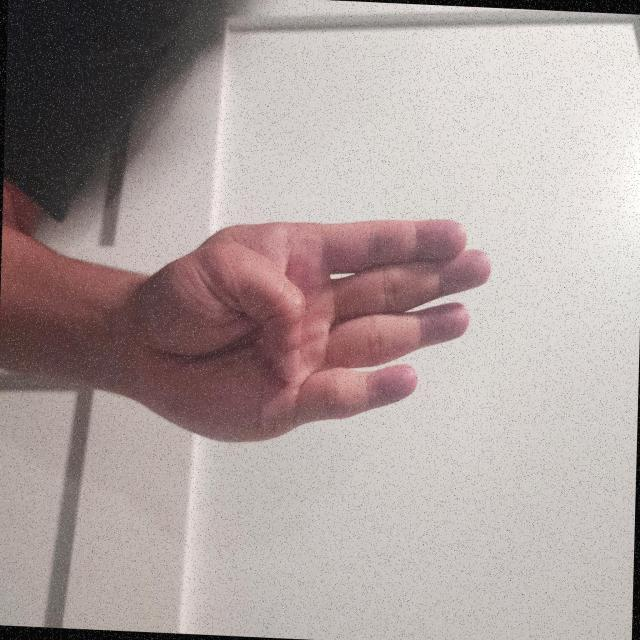B: (308, 197, 505, 640)
